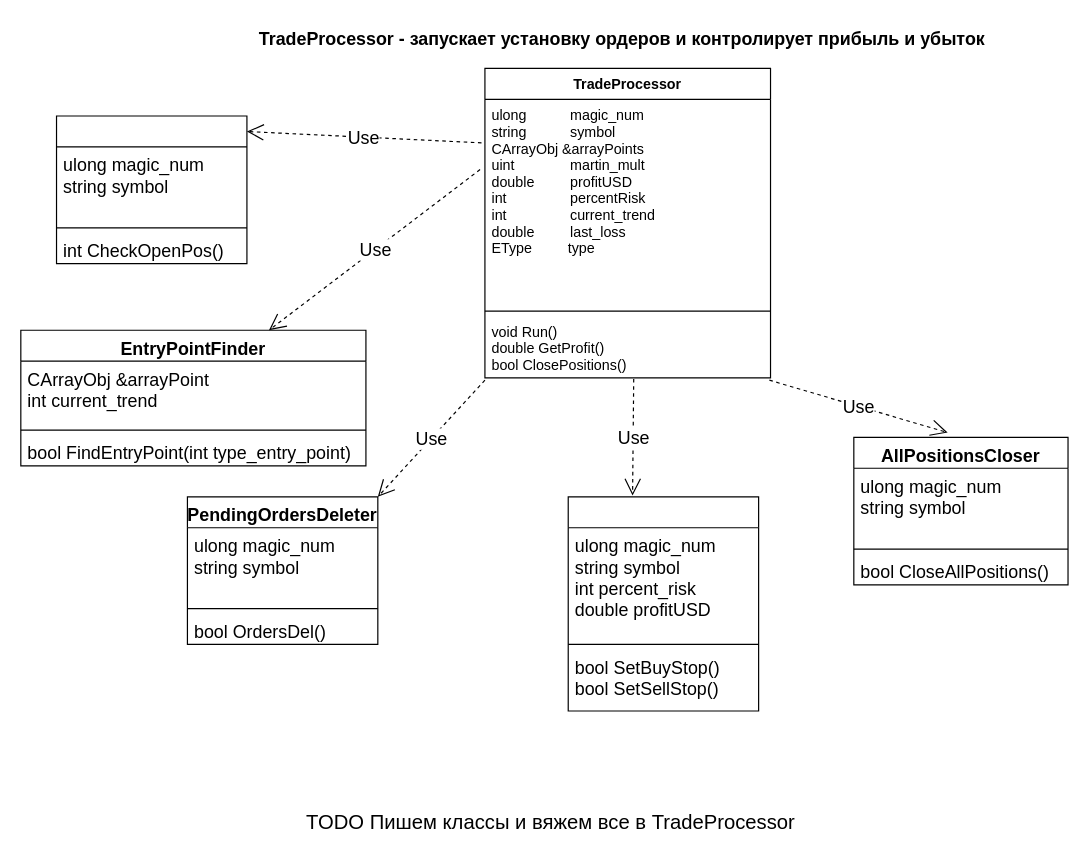
Image size: 1089x862. Some labels were removed from this diagram. The box of each missing label's shape, as (x1, y1, x2, y2) in pixels:
OpenPosCounter: (55, 115, 247, 264)
PendingOrderSetter: (567, 496, 759, 711)
